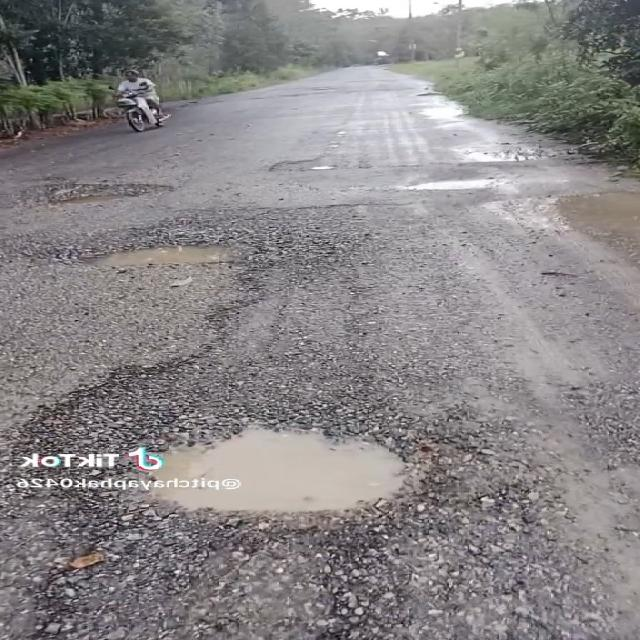Poth-hole: (376, 145, 550, 226)
